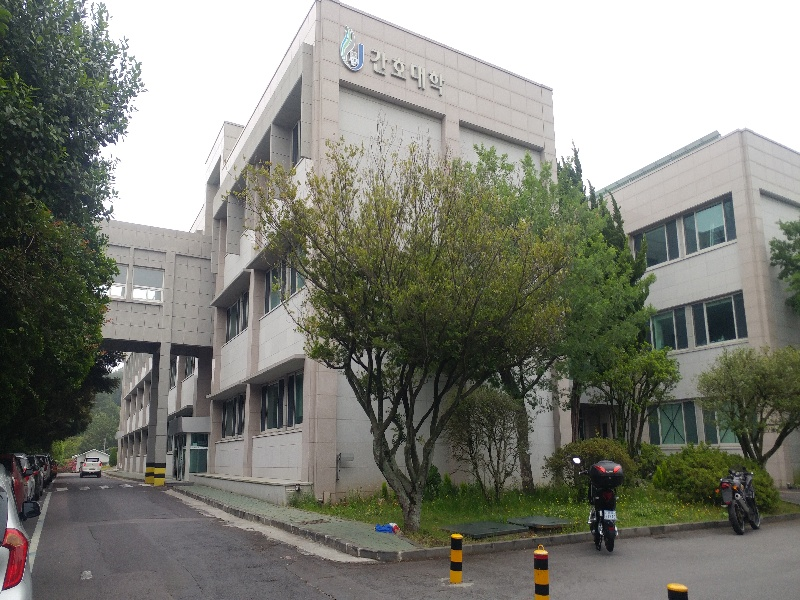College of Nursing: (188, 23, 579, 486), (339, 29, 461, 113)
Cultural lecture hall: (605, 129, 800, 444)
